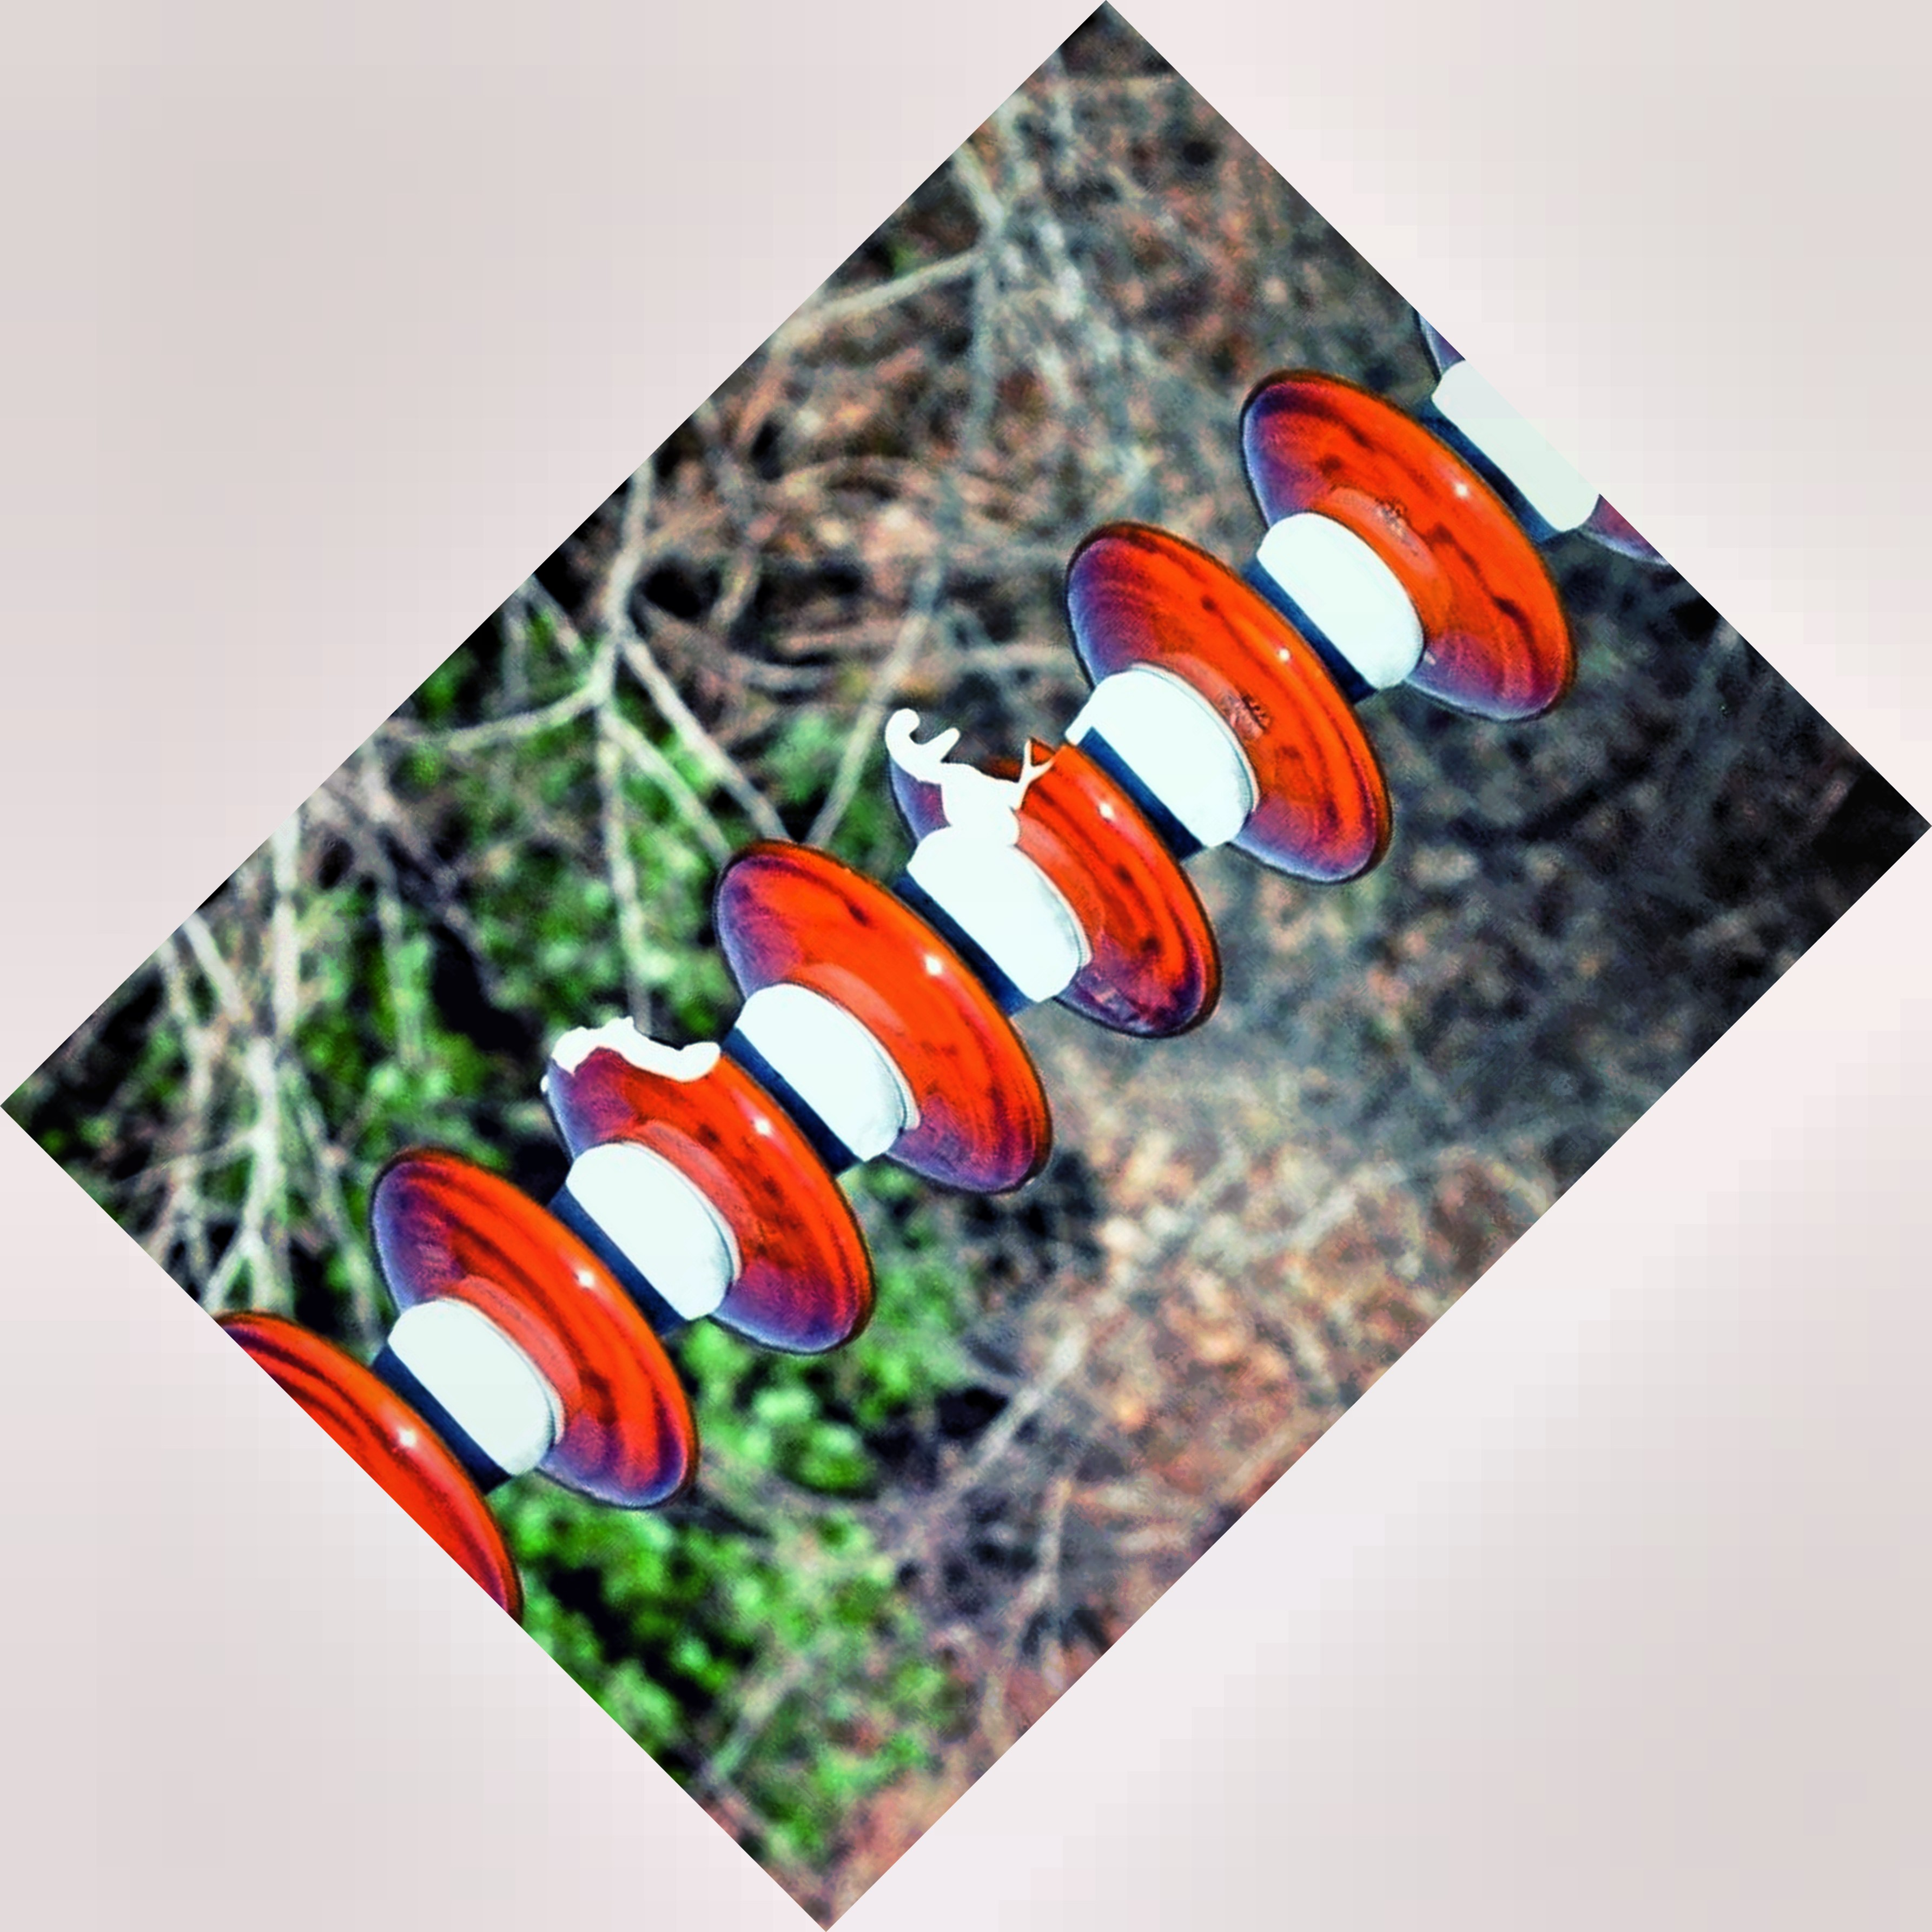insulator breakage: (487, 1008, 893, 1359), (865, 694, 1251, 1040)
